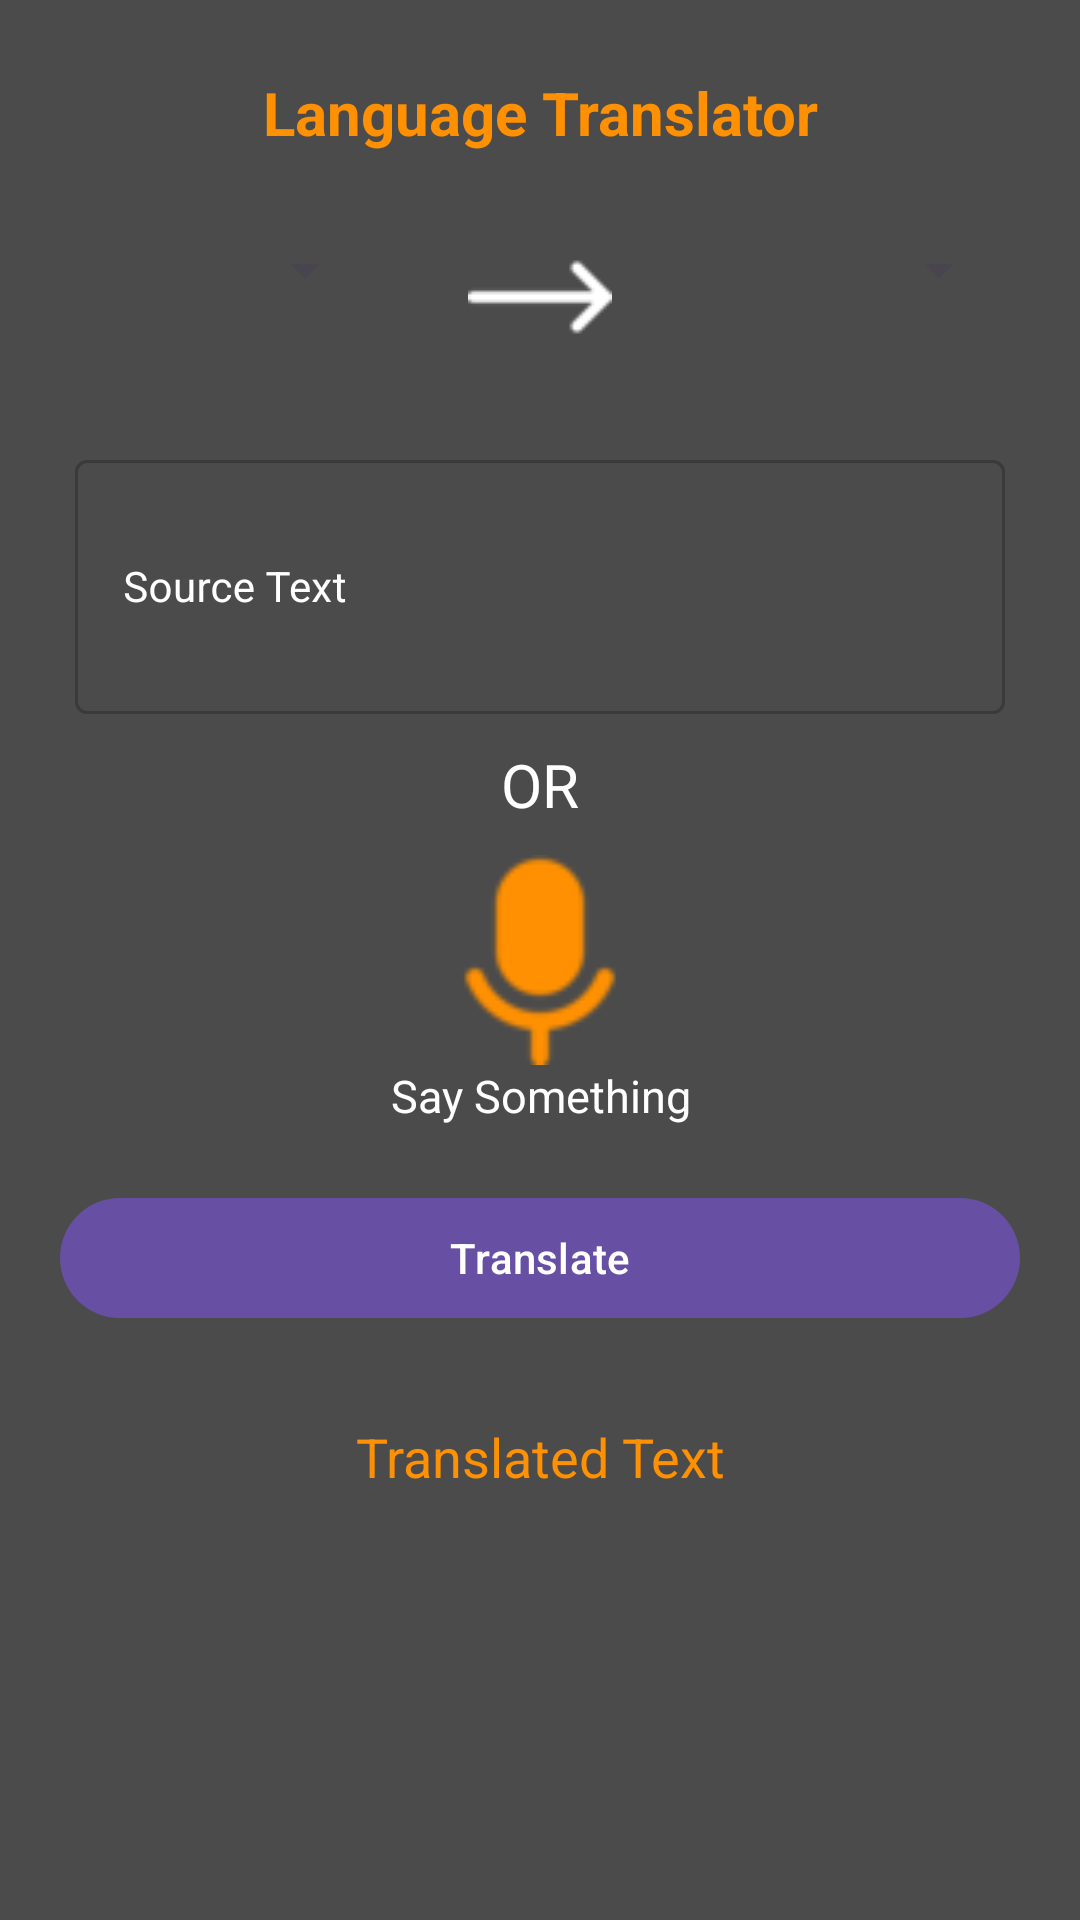

Icon bounding boxes for this 1080 x 1920 phone screenshot, format bbox=[x1, y1, x2, y2]:
arrow: bbox=[468, 260, 612, 334]
mic: bbox=[464, 857, 616, 1065]
